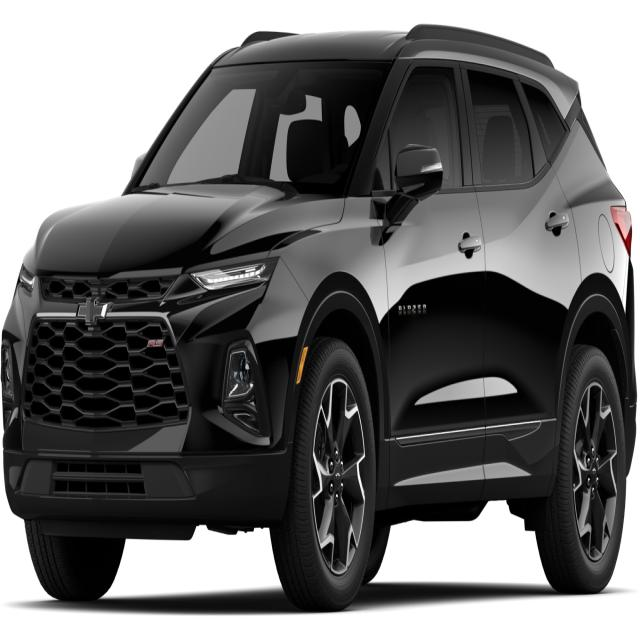SUV: (8, 30, 635, 546)
